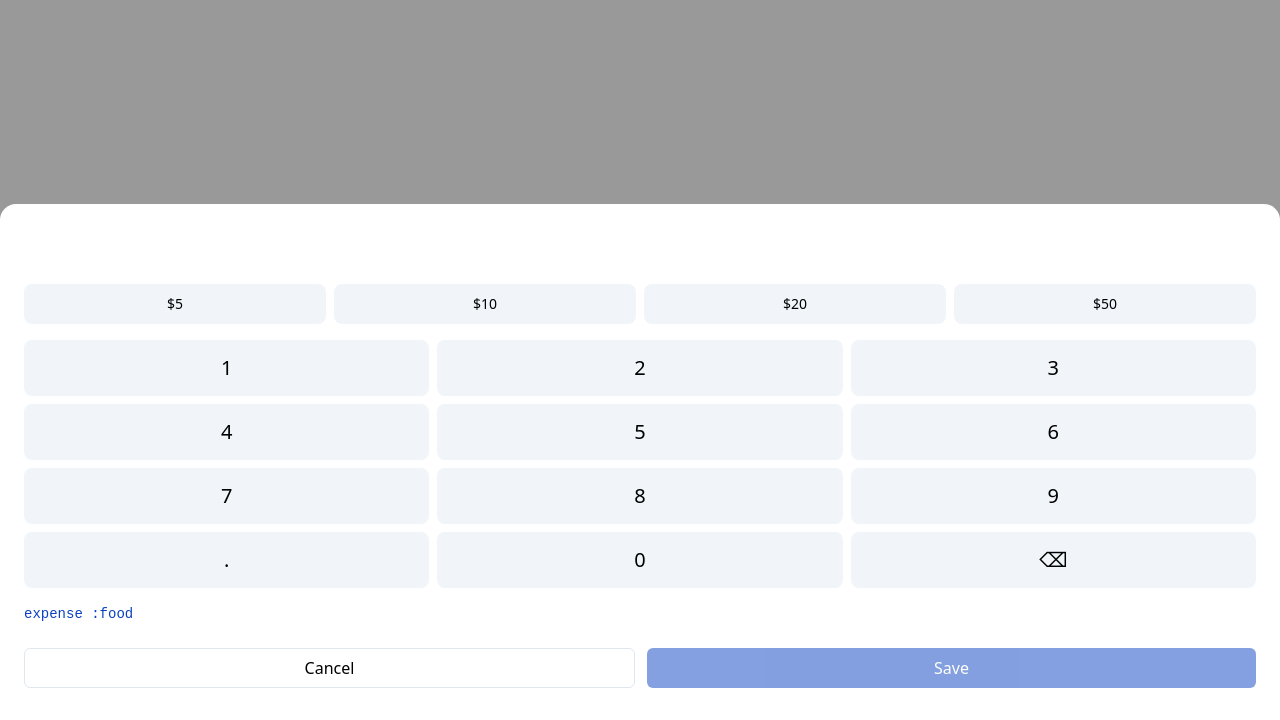
Test: HoleSheet › preview shows "expense 20:food" after tapping the $20 preset
The image size is (1280, 720).
Click the button "$20": {"x": 795, "y": 304} [644,284,946,324]
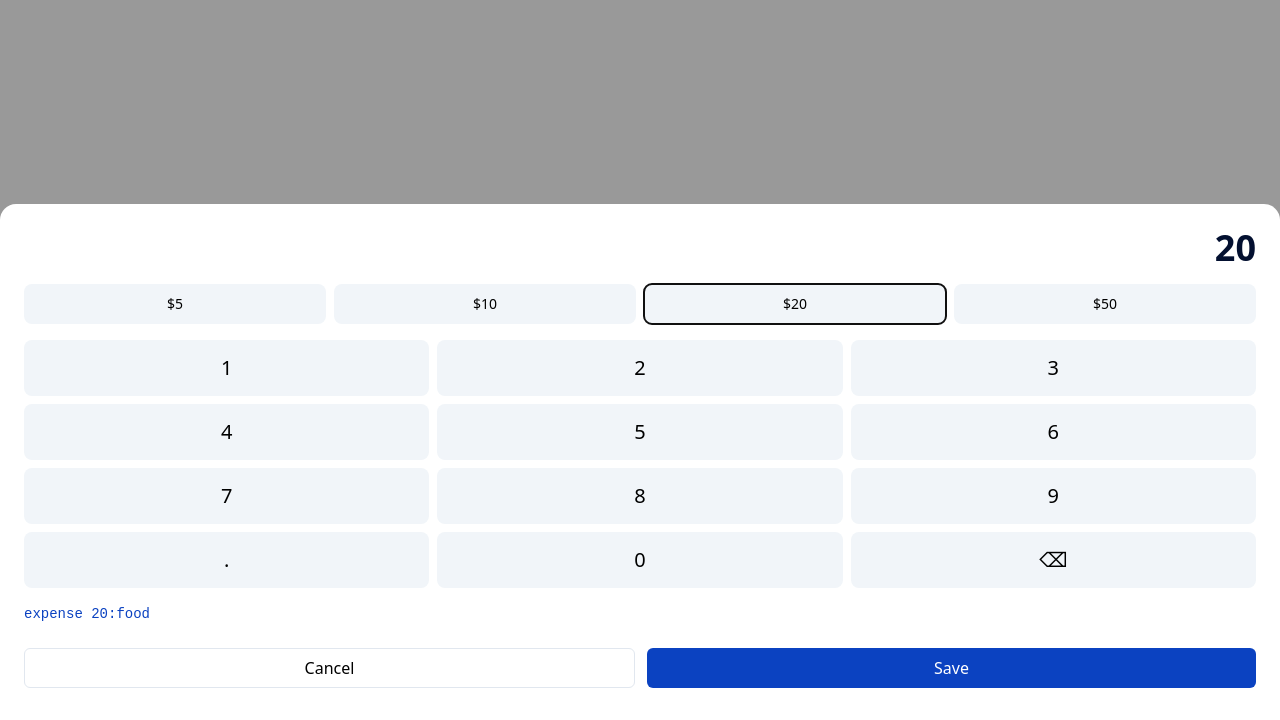
expect the text "expense 20:food" is shown: met, box [24,606,150,622]
